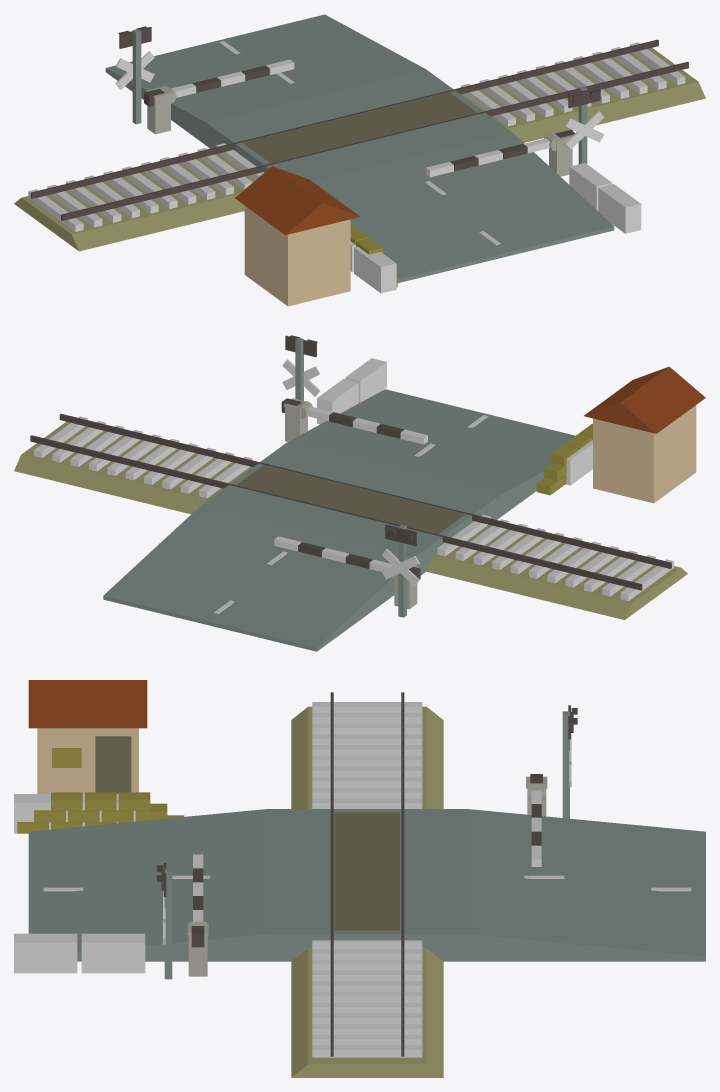
The model's file is SM_PasoNivel_90_v3_Militar_LOD0.fbx.
3 renders of one model, top to bottom at view 1: azimuth 30°, elevation 25°; view 2: azimuth 150°, elevation 25°; view 3: azimuth 270°, elevation 25°, orthographic. The views are drawn at different scales.
Parts seen in each view (by area): view 1: SM_paso_nivel_kit_v3_LOD0, Barrera_2, Barrera_1; view 2: SM_paso_nivel_kit_v3_LOD0, Barrera_1, Barrera_2; view 3: SM_paso_nivel_kit_v3_LOD0, Barrera_2, Barrera_1.
Part boxes in pixels (x1,y1,x2,y2): SM_paso_nivel_kit_v3_LOD0: (14, 14, 705, 306); Barrera_2: (144, 59, 294, 106); Barrera_1: (425, 129, 574, 177); SM_paso_nivel_kit_v3_LOD0: (14, 335, 705, 651); Barrera_1: (281, 398, 427, 444); Barrera_2: (274, 536, 420, 579); SM_paso_nivel_kit_v3_LOD0: (14, 680, 705, 1077); Barrera_2: (528, 774, 545, 866); Barrera_1: (189, 854, 206, 947).
Bounding box in the file's own units: 20 × 3 × 16.35.
